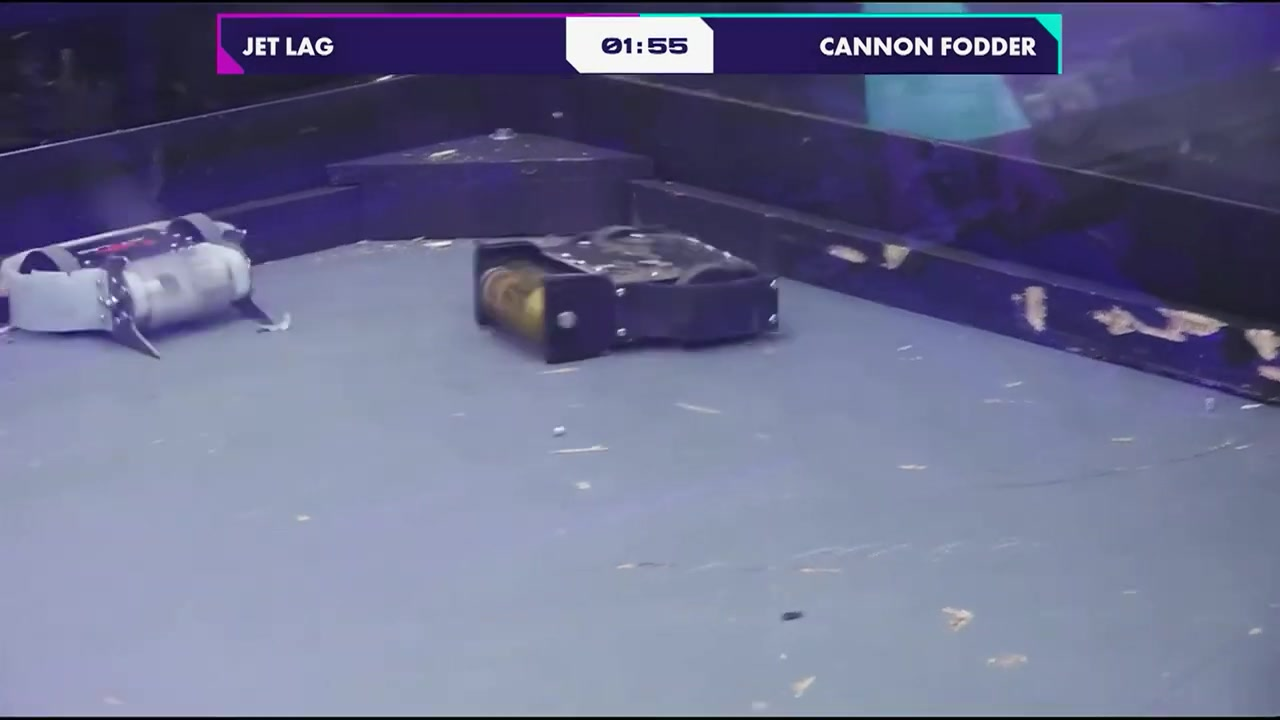combatbot: (472, 224, 782, 364), (4, 212, 278, 363)
